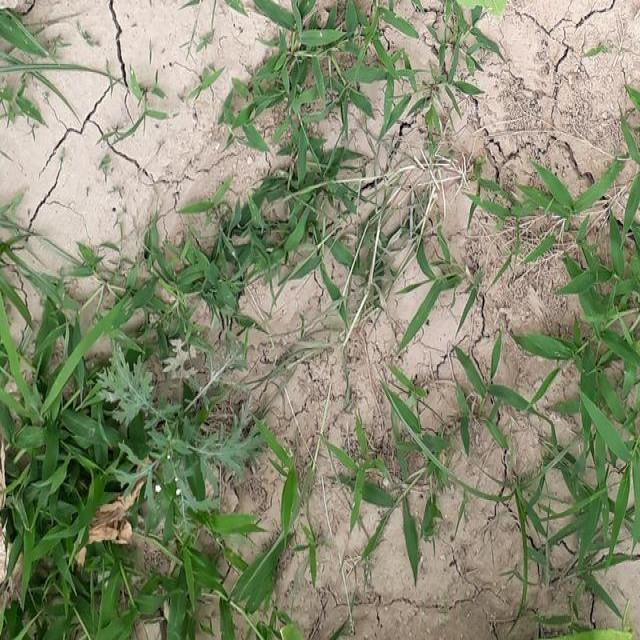weed: (3, 249, 291, 640), (486, 163, 640, 623), (260, 12, 428, 292), (329, 350, 462, 574), (0, 4, 56, 130)
